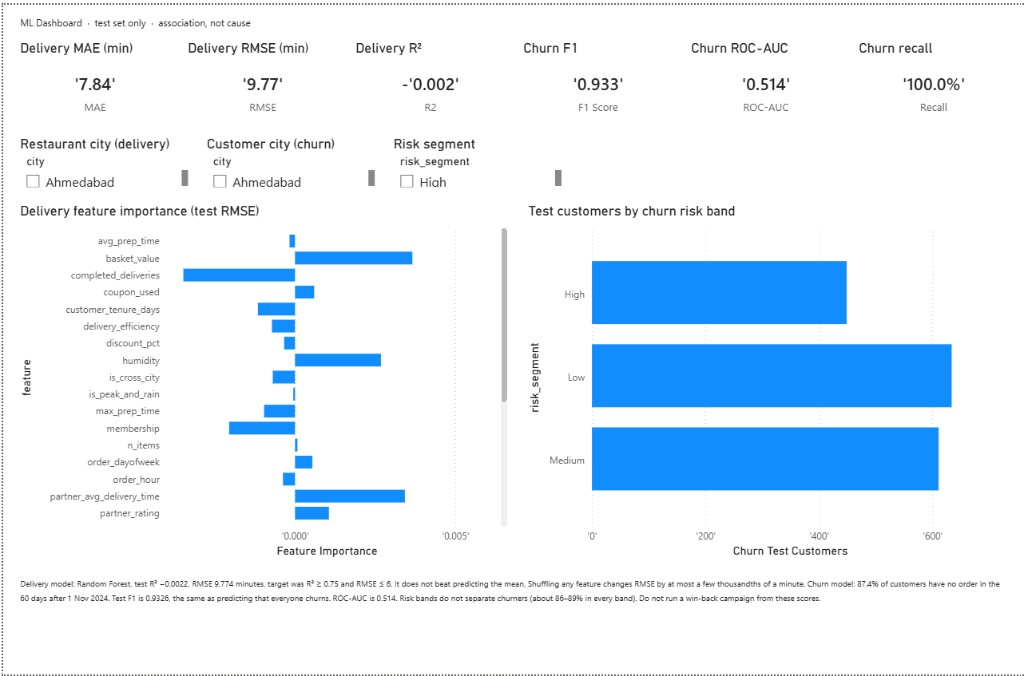

Layout of this report page (visuals, bound fields, positions):
{"tool":"powerbi","page":{"name":"ML Dashboard","canvas":[1280,840],"ordinal":5},"visuals":[{"type":"textbox","box":[16,8,1200,32],"z":0},{"type":"card","title":"Delivery MAE (min)","fields":{"Values":["_Measures.MAE"]},"box":[16,44,198,112],"z":1},{"type":"card","title":"Delivery RMSE (min)","fields":{"Values":["_Measures.RMSE"]},"box":[226,44,198,112],"z":1},{"type":"card","title":"Delivery R²","fields":{"Values":["_Measures.R2"]},"box":[436,44,198,112],"z":1},{"type":"card","title":"Churn F1","fields":{"Values":["_Measures.F1 Score"]},"box":[646,44,198,112],"z":1},{"type":"card","title":"Churn ROC-AUC","fields":{"Values":["_Measures.ROC-AUC"]},"box":[856,44,198,112],"z":1},{"type":"card","title":"Churn recall","fields":{"Values":["_Measures.Recall"]},"box":[1066,44,198,112],"z":1},{"type":"slicer","title":"Restaurant city (delivery)","fields":{"Values":["dim_city.city"]},"box":[16,164,220,70],"z":2},{"type":"slicer","title":"Customer city (churn)","fields":{"Values":["dim_customers.city"]},"box":[250,164,220,70],"z":2},{"type":"slicer","title":"Risk segment","fields":{"Values":["ml_churn_scores_test.risk_segment"]},"box":[484,164,220,70],"z":2},{"type":"clusteredBarChart","title":"Delivery feature importance (test RMSE)","fields":{"Category":["ml_delivery_feature_importance.feature"],"Y":["_Measures.Feature Importance"]},"box":[16,248,620,450],"z":3},{"type":"clusteredBarChart","title":"Test customers by churn risk band","fields":{"Category":["ml_churn_scores_test.risk_segment"],"Y":["_Measures.Churn Test Customers"]},"box":[652,248,600,450],"z":3},{"type":"textbox","box":[16,710,1240,110],"z":4}]}

Visuals, with their boxes in screenshot pixels (x1, y1, x2, y2), scaled from the page's 1280x840 canvas onto the 1024x676 screenshot:
textbox: bbox=(13, 6, 973, 32)
"Delivery MAE (min)" card: bbox=(13, 35, 171, 126)
"Delivery RMSE (min)" card: bbox=(181, 35, 339, 126)
"Delivery R²" card: bbox=(349, 35, 507, 126)
"Churn F1" card: bbox=(517, 35, 675, 126)
"Churn ROC-AUC" card: bbox=(685, 35, 843, 126)
"Churn recall" card: bbox=(853, 35, 1011, 126)
"Restaurant city (delivery)" slicer: bbox=(13, 132, 189, 188)
"Customer city (churn)" slicer: bbox=(200, 132, 376, 188)
"Risk segment" slicer: bbox=(387, 132, 563, 188)
"Delivery feature importance (test RMSE)" clusteredBarChart: bbox=(13, 200, 509, 562)
"Test customers by churn risk band" clusteredBarChart: bbox=(522, 200, 1002, 562)
textbox: bbox=(13, 571, 1005, 660)
